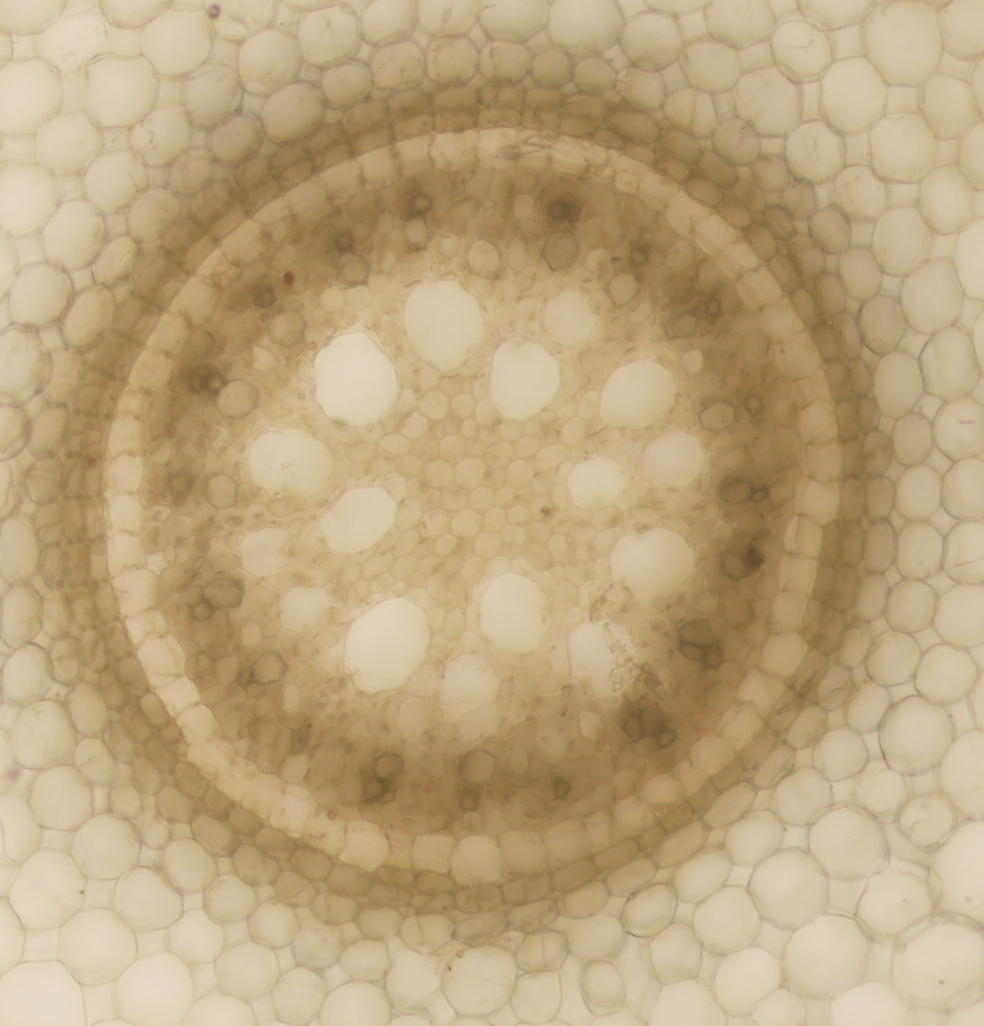lm: (402, 426, 443, 476), (417, 562, 459, 609), (448, 400, 487, 448), (552, 526, 596, 565), (546, 440, 586, 480), (491, 428, 526, 471), (530, 572, 564, 616), (405, 504, 444, 542), (486, 549, 520, 589), (369, 475, 408, 507), (466, 590, 495, 628)
